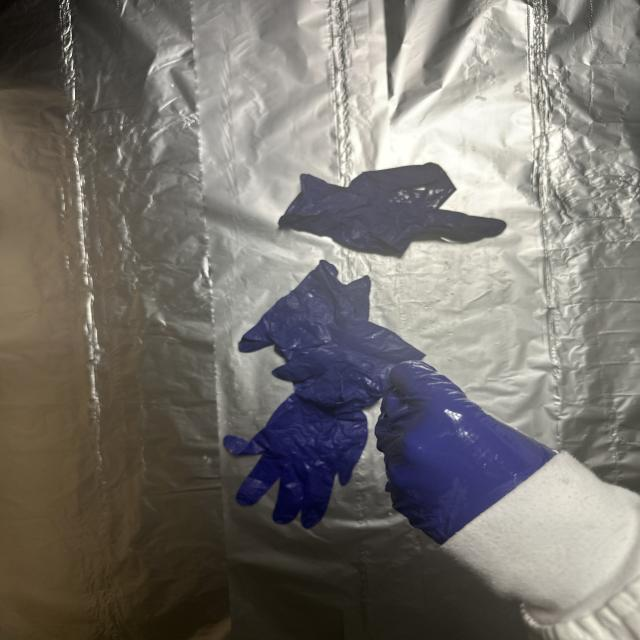gloves_contaminated: (375, 361, 554, 544)
